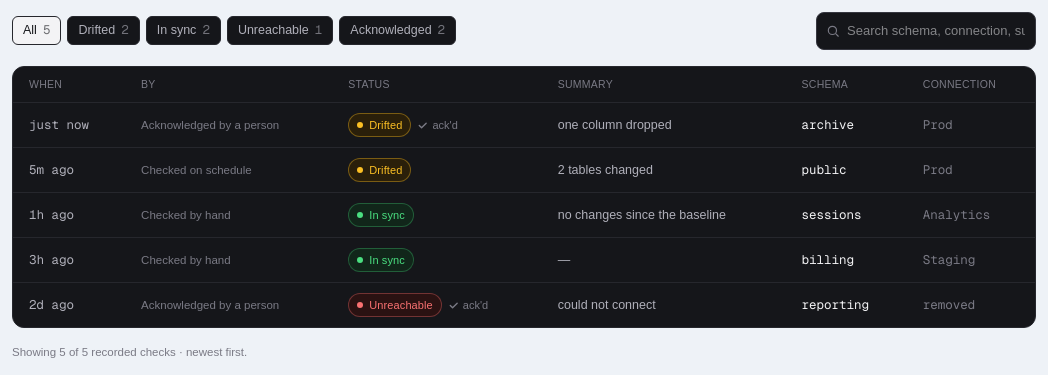
Scenario: the line under the table › says how much of the log is on screen
Click the button "Drifted2" at point(104, 31), box x1=67 y1=16 x2=140 y2=45
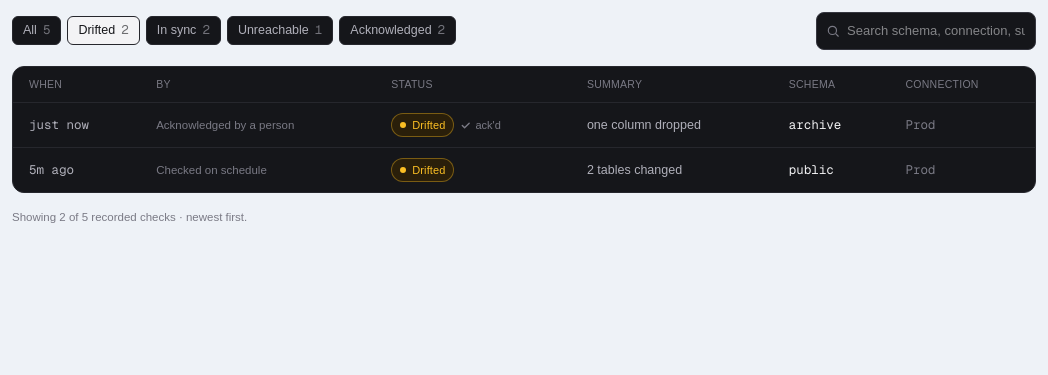
expect the text "Showing 2 of 5 recorded checks · newest first." is shown: met, box x1=12 y1=211 x2=247 y2=223
